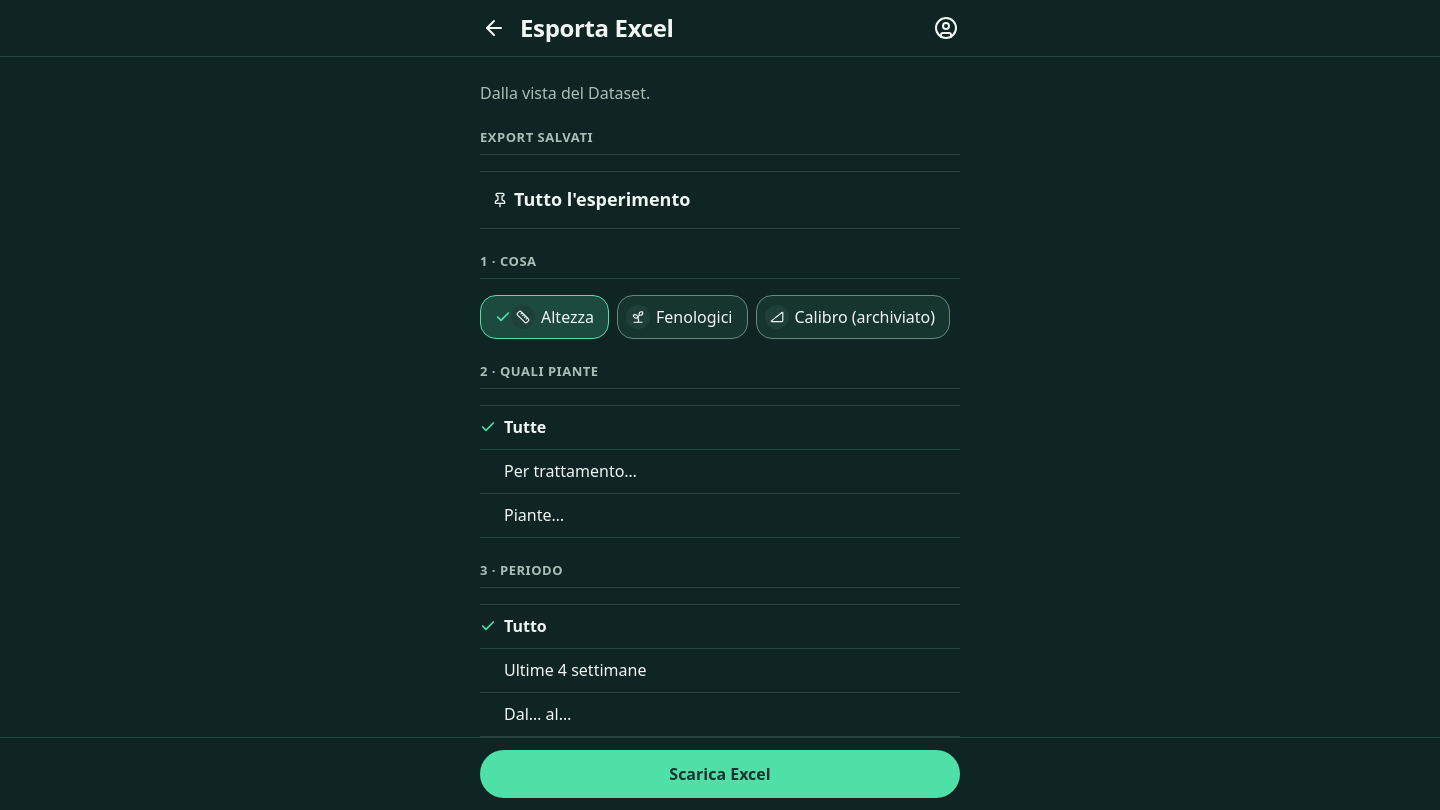
Test: Esporta: arrivo da «Scarica questa vista» del Dataset › cambiando una scelta la riga «Dalla vista del Dataset.» sparisce
This screenshot has width=1440, height=810.
Check: the text "Dalla vista del Dataset." is shown, box [480,82,650,104]
Click the button "Fenologici" at (682, 317), box [617,295,748,339]
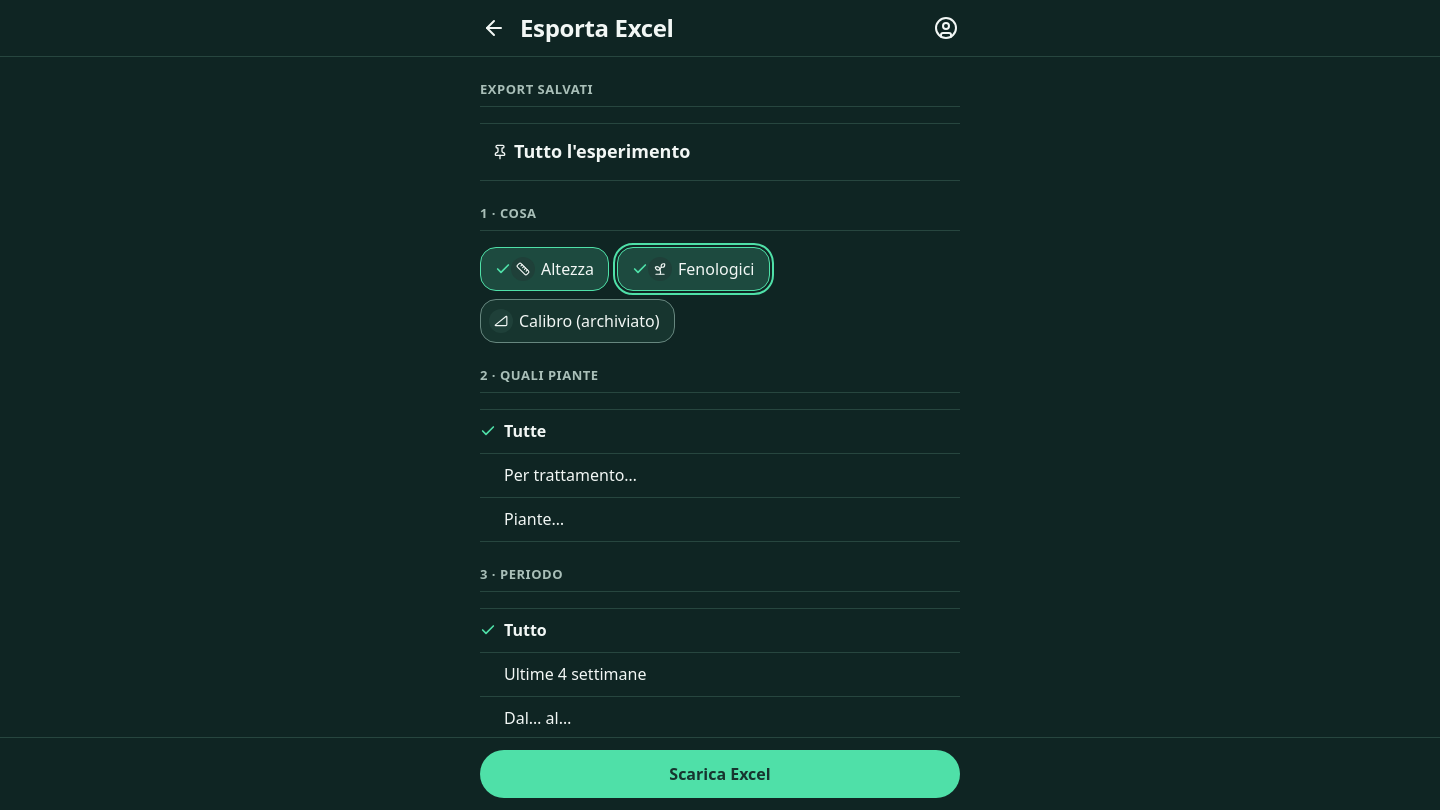
Check: the text "Dalla vista del Dataset." is gone
